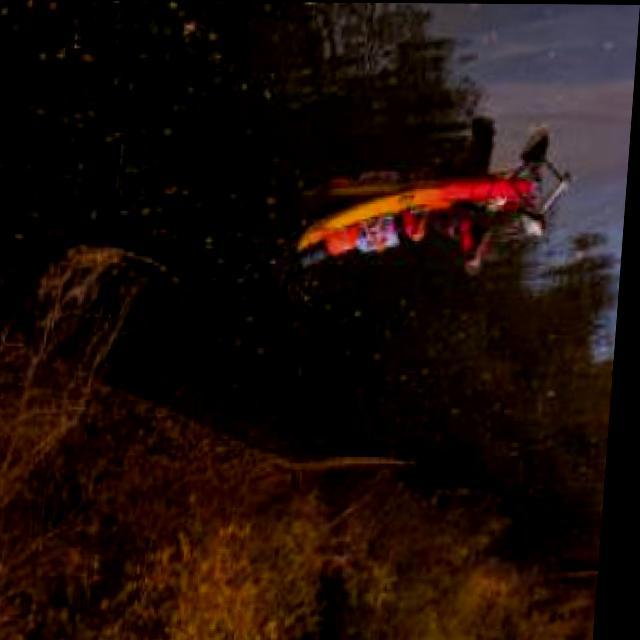kayak: (300, 165, 572, 263)
